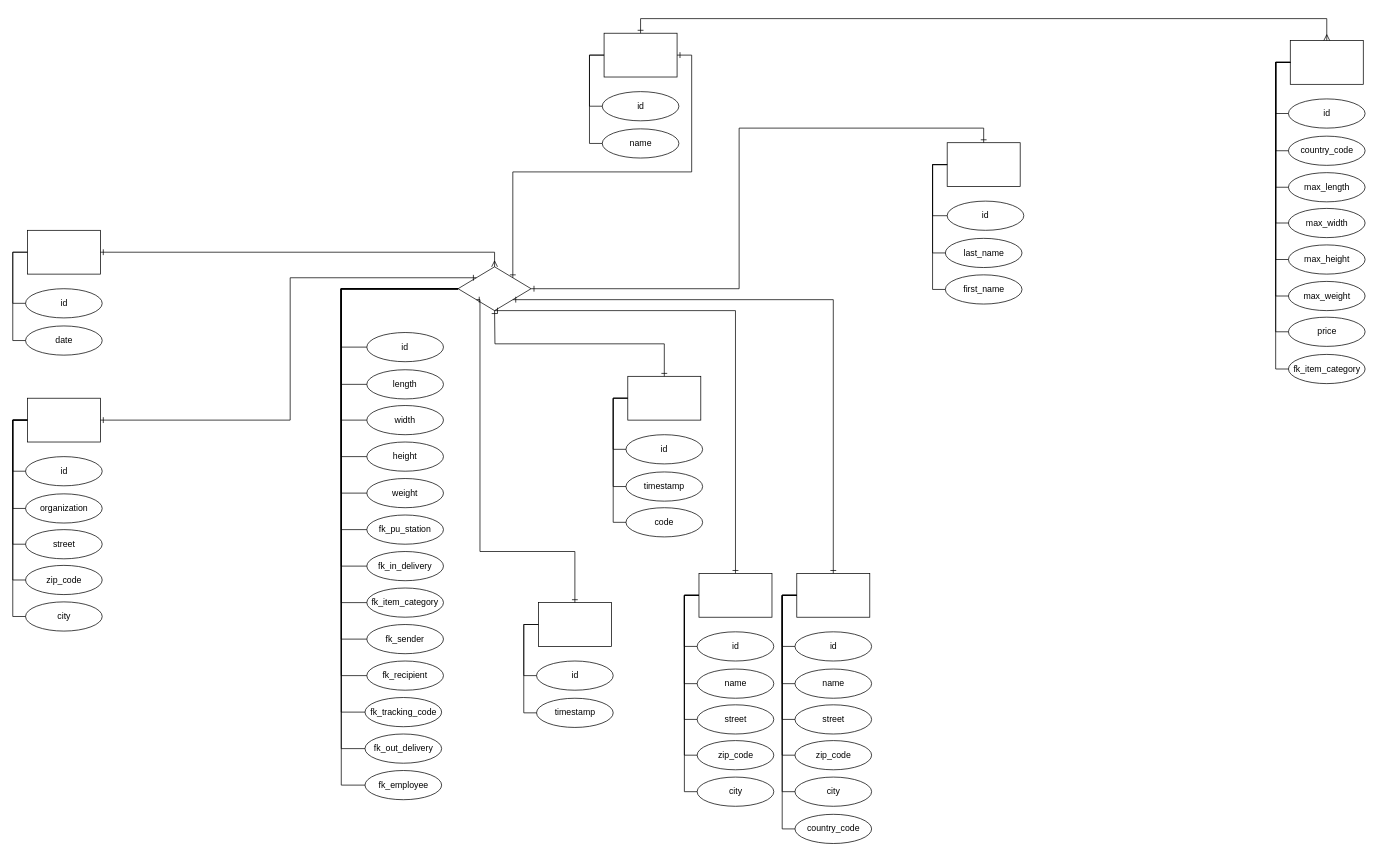
Image size: 1378x856. Some labels were removed from this diagram. Each missing label, with the box of its shape:
del_items: (457, 266, 531, 311)
employees: (946, 142, 1020, 187)
in_deliveries: (27, 230, 100, 274)
item_categories: (603, 32, 677, 77)
out_deliveries: (538, 602, 611, 646)
pu_stations: (27, 397, 100, 442)
recipients: (796, 573, 870, 617)
senders: (698, 573, 772, 617)
tariffs: (1290, 40, 1363, 84)
tracking_codes: (627, 376, 701, 420)
